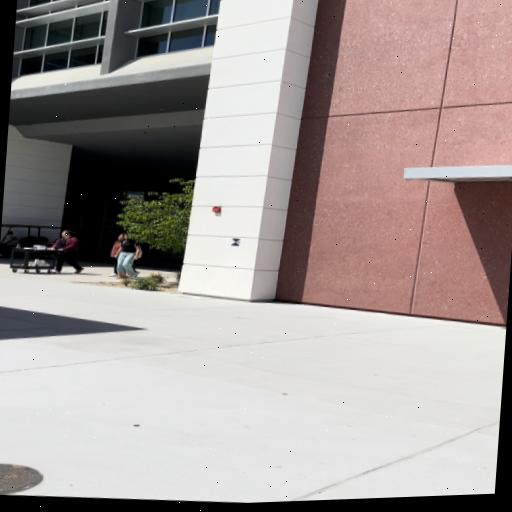target6: (230, 239, 241, 246)
